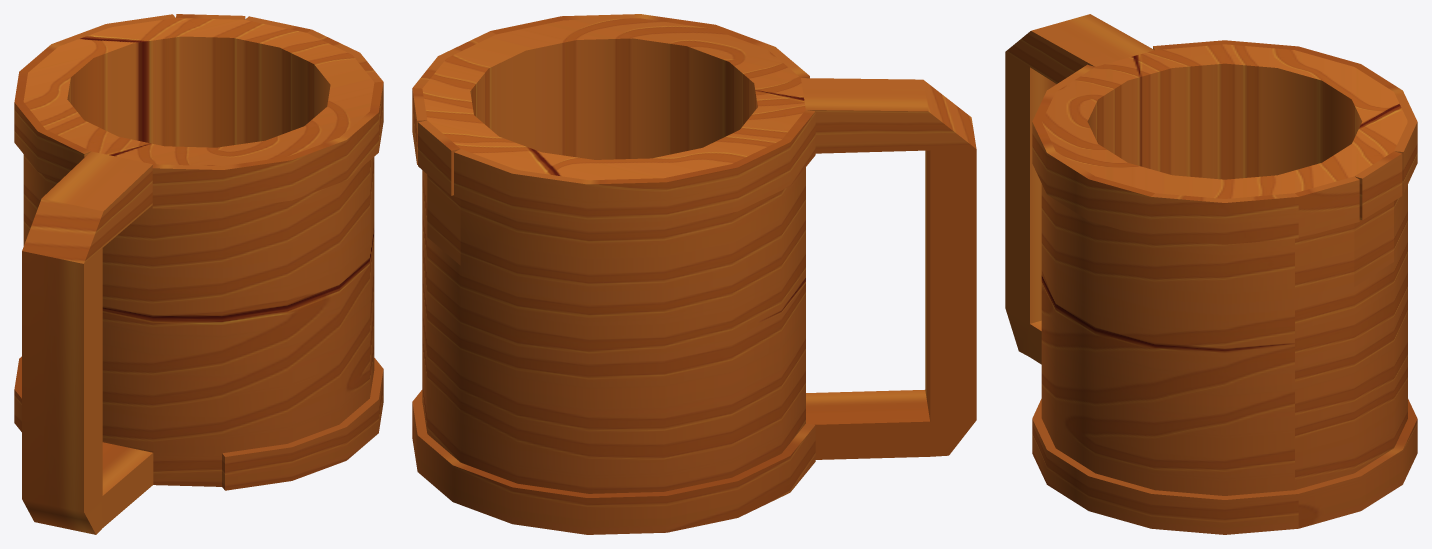
Rendered from Cup.fbx.
The picture shows the model from 3 angles, left to right: view 1: azimuth 30°, elevation 25°; view 2: azimuth 150°, elevation 25°; view 3: azimuth 270°, elevation 25°; orthographic projection. The views are drawn at different scales.
Visible parts, largest first — view 1: pCylinder1; view 2: pCylinder1; view 3: pCylinder1.
Boxes of the visible parts, x1=… form: pCylinder1: x1=14, y1=14, x2=383, y2=534; pCylinder1: x1=412, y1=14, x2=976, y2=534; pCylinder1: x1=1005, y1=14, x2=1417, y2=534.
Size of the model in its own units: 13.56 by 10 by 11.25.
1 material, 1 textured.
